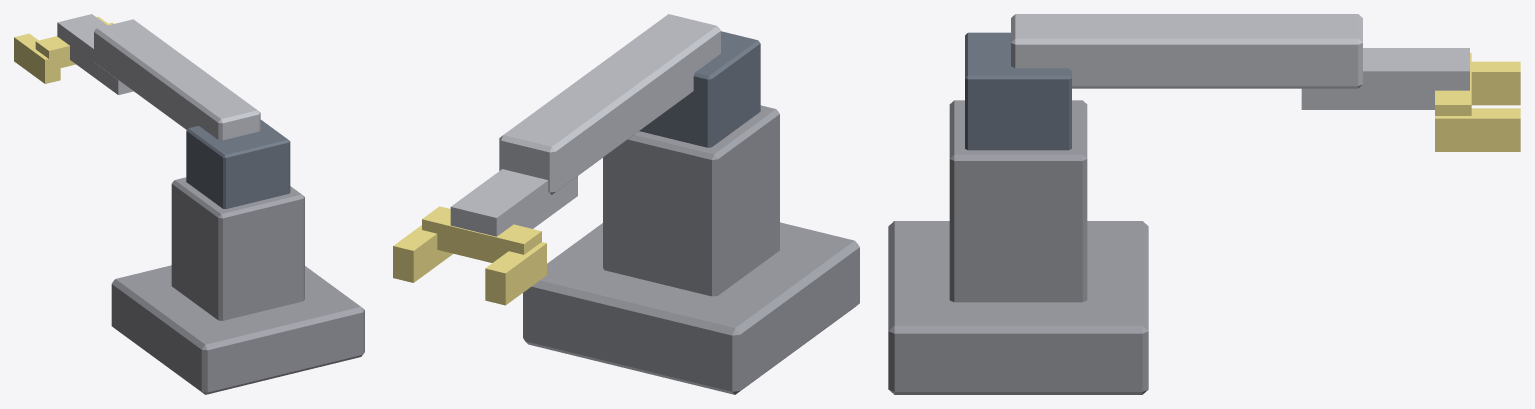
Rendered from inserter_01.glb.
3 renders of one model, left to right at view 1: azimuth 30°, elevation 25°; view 2: azimuth 150°, elevation 25°; view 3: azimuth 270°, elevation 25°, orthographic. The views are drawn at different scales.
Visible parts, largest first — view 1: inserter_01; view 2: inserter_01; view 3: inserter_01.
Boxes of the visible parts, bbox=[...] form: inserter_01: bbox=[14, 14, 364, 394]; inserter_01: bbox=[393, 14, 859, 394]; inserter_01: bbox=[888, 14, 1520, 394].
Size of the model in its own units: 0.85 by 1.14 by 2.07.
